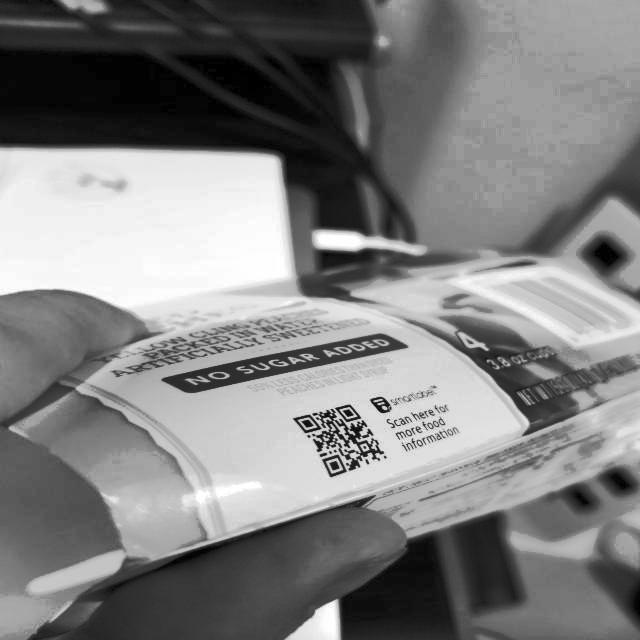qr_code: (278, 395, 401, 484)
